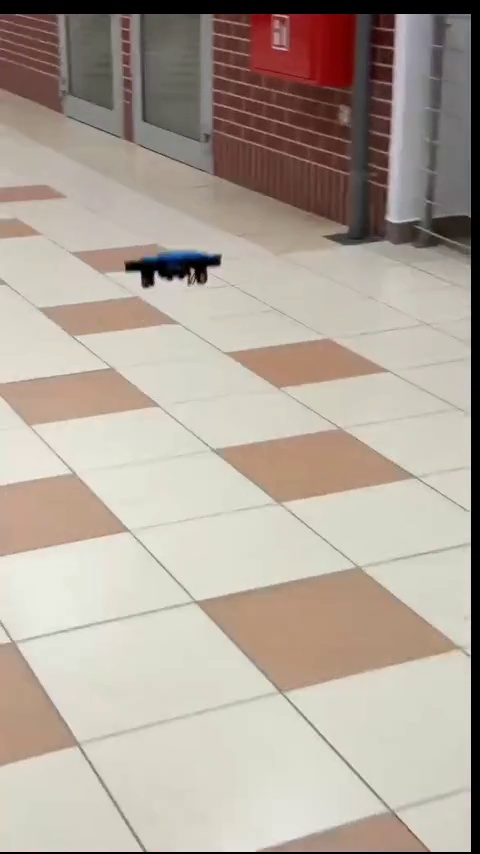drone: (126, 250, 227, 292)
